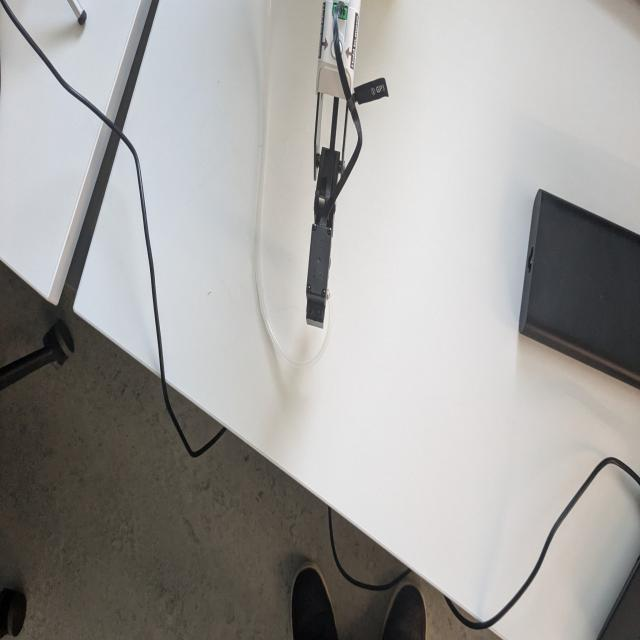Robot-end-effector-HF8z: (303, 219, 335, 329)
